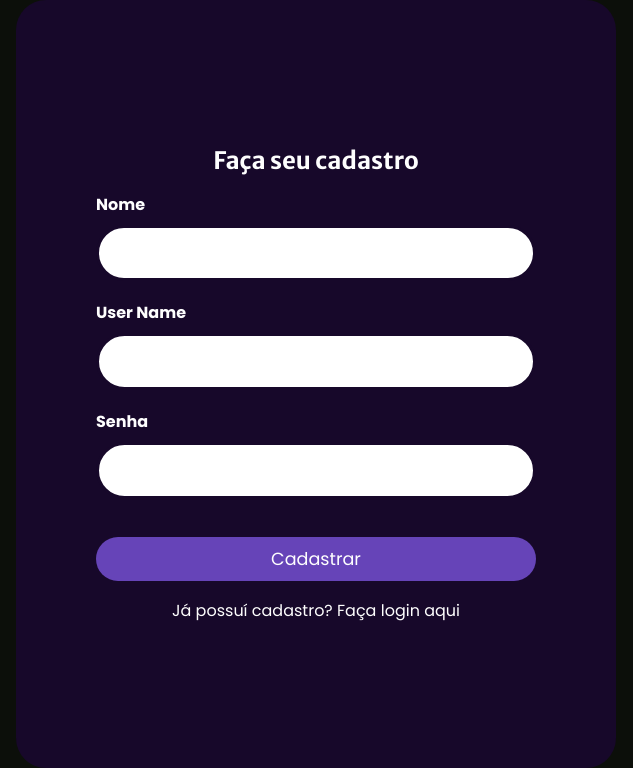
Test: Signup Component › displays error on failed signup
Type "Teste" into the field labelled "Nome" at (316,253), box [96,225,536,281]
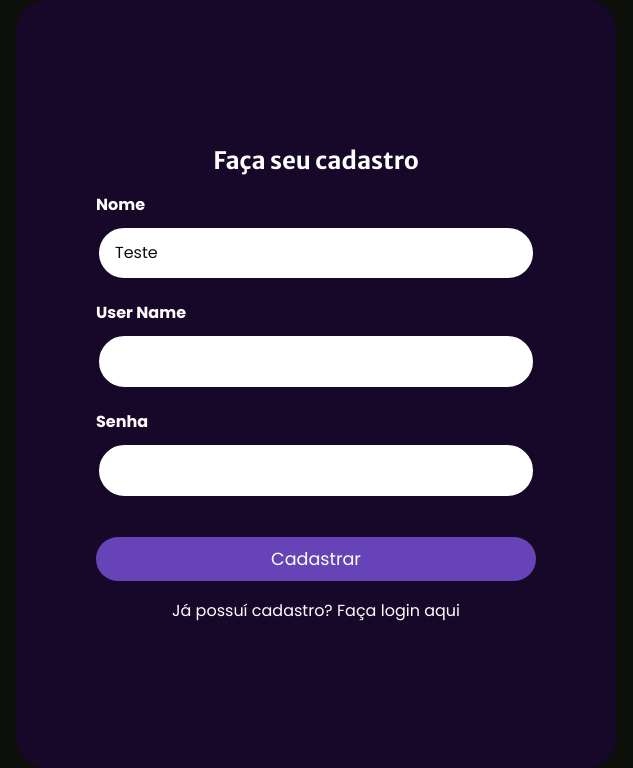
Type "Teste" into the field labelled "User Name" at (316,362), box [96,333,536,390]
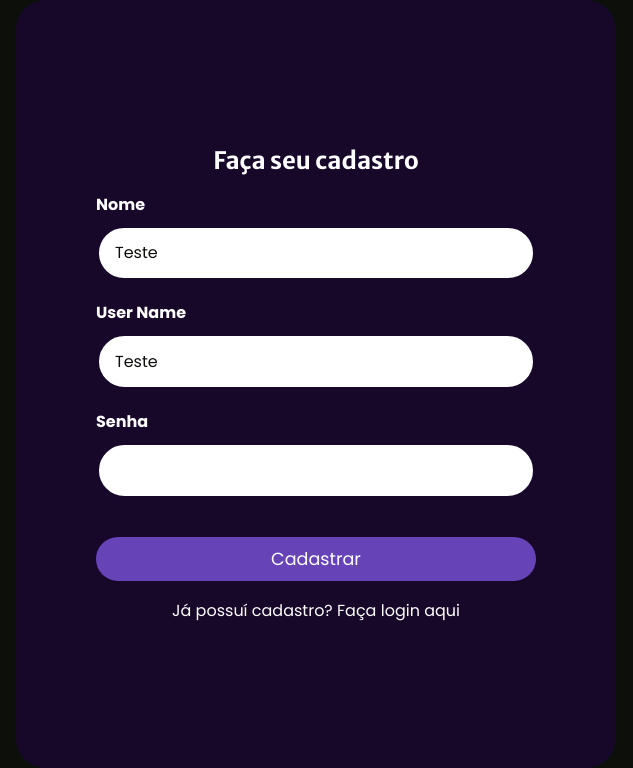
Type "123" into the password field labelled "Senha" at (316,470), box [96,442,536,499]
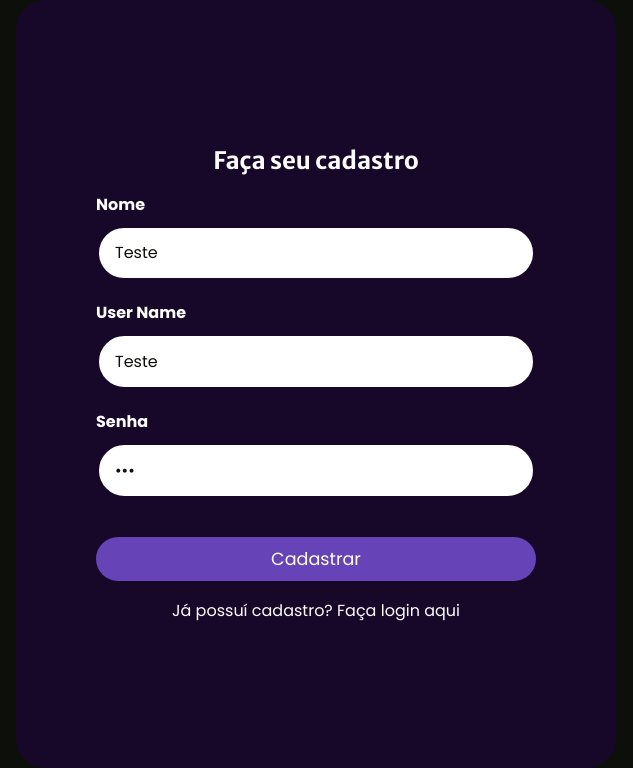
Click the button "Cadastrar" at (316,559), box [96,537,536,581]
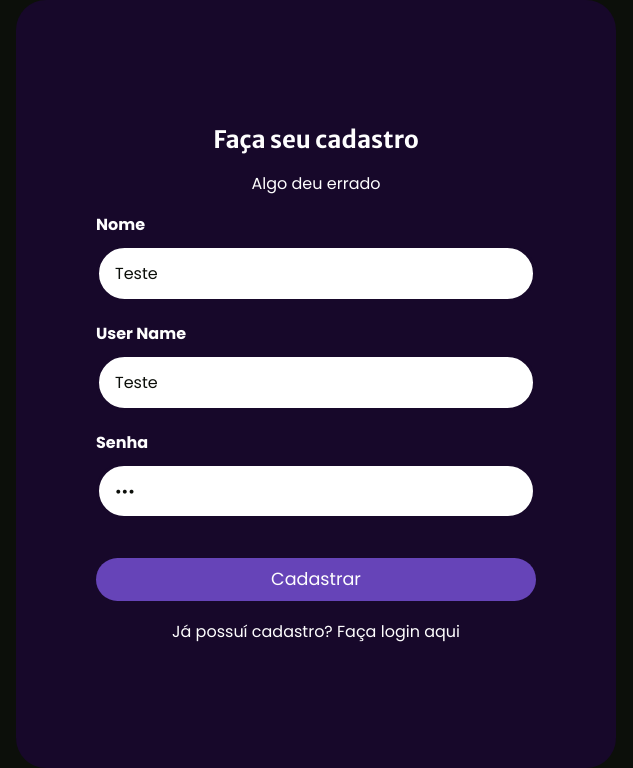
Result: the text "Algo deu errado" is shown at [252,172,380,195]
